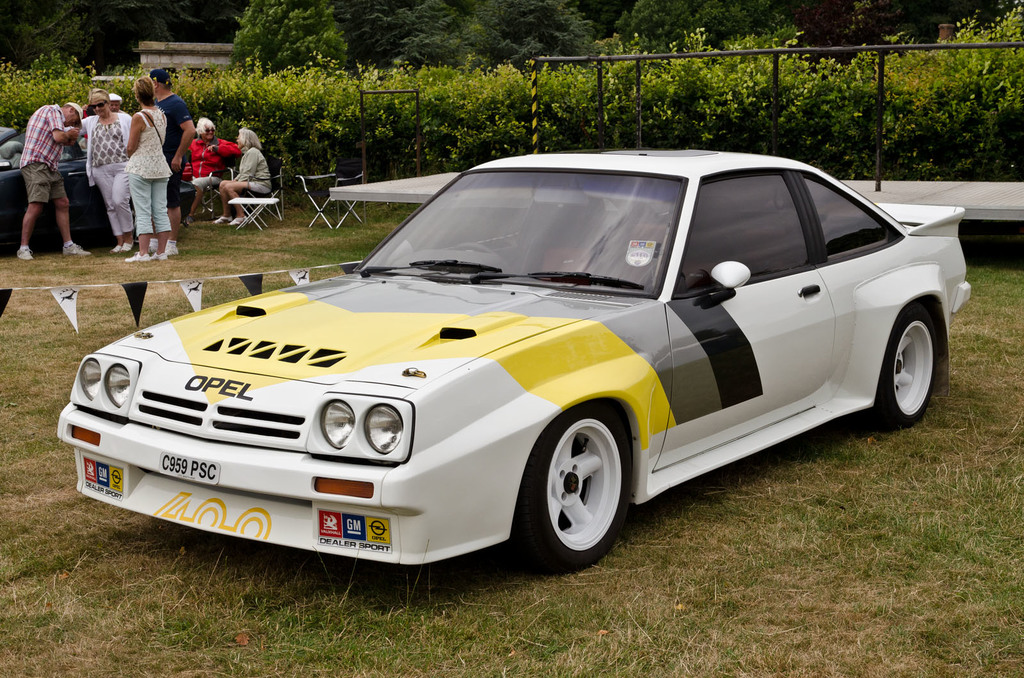Car: (56, 147, 974, 569)
